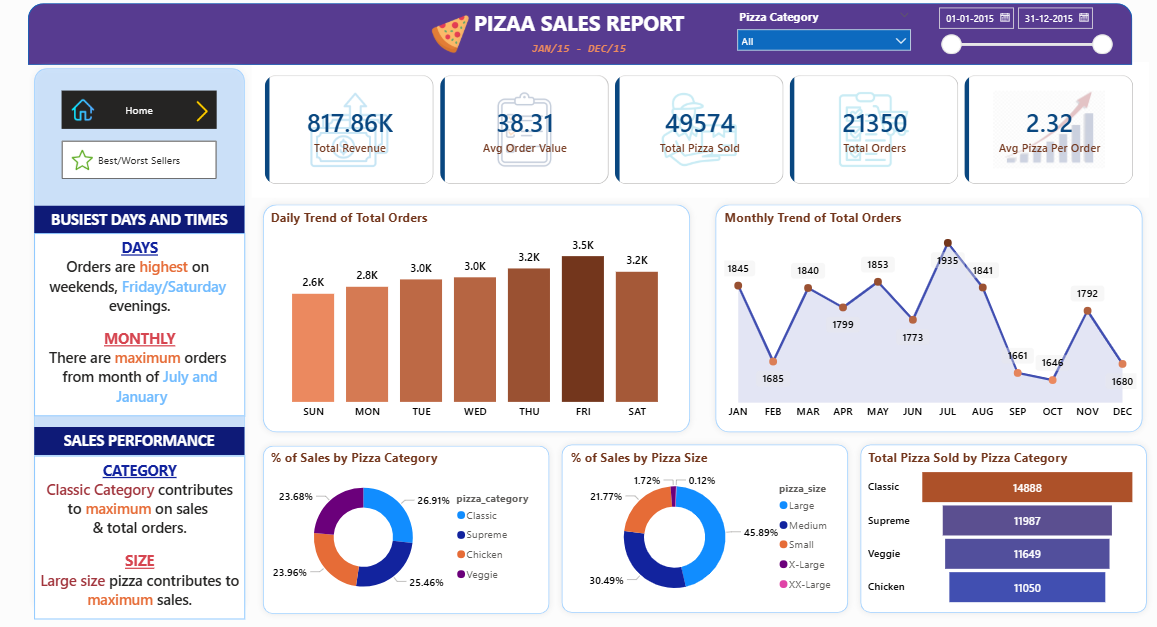

This screenshot's page, from the dashboard's own definition file:
{"tool":"powerbi","page":{"name":"Home","canvas":[1500,820],"ordinal":0},"visuals":[{"type":"cardVisual","fields":{"Data":["pizza_sales.Total Revenue","pizza_sales.Avg Order Value","pizza_sales.Total Pizza Sold","pizza_sales.Total Orders","pizza_sales.Avg Pizza Per Order"]},"box":[325.9,90.5,1154.5,174.1],"z":0},{"type":"shape","box":[39,13.9,1420.5,79.4],"z":1000},{"type":"textbox","box":[582.1,16.7,338.4,51.5],"z":2000},{"type":"textbox","box":[682.4,57.1,139.3,33.4],"z":3000},{"type":"image","box":[544.5,29.2,73.8,50.1],"z":4000},{"type":"shape","box":[332.8,264.6,565.4,309.2],"z":5000},{"type":"columnChart","title":"Daily Trend of Total Orders","fields":{"Category":["pizza_sales.Order Day"],"Y":["pizza_sales.Total Orders"]},"box":[345.4,278.5,537.6,281.3],"z":6000},{"type":"shape","box":[915,264.6,565.4,309.2],"z":7000},{"type":"shape","box":[39,90.5,286.9,715.8],"z":8000},{"type":"areaChart","title":"Monthly Trend of Total Orders","fields":{"Category":["pizza_sales.Order Month"],"Y":["pizza_sales.Total Orders"]},"box":[928.9,278.5,540.4,281.3],"z":9000},{"type":"shape","box":[332.8,575.2,384.4,232.6],"z":10000},{"type":"shape","box":[717.2,573.8,384.4,232.6],"z":11000},{"type":"shape","box":[1101.6,573.8,384.4,232.6],"z":12000},{"type":"donutChart","title":"% of Sales by Pizza Category","fields":{"Category":["pizza_sales.pizza_category"],"Y":["pizza_sales.Total Revenue"]},"box":[345.4,587.7,357.9,207.5],"z":13000},{"type":"donutChart","title":"% of Sales by Pizza Size","fields":{"Y":["pizza_sales.Total Revenue"],"Category":["pizza_sales.pizza_size"]},"box":[731.2,587.7,357.9,207.5],"z":14000},{"type":"funnel","title":"Total Pizza Sold by Pizza Category","fields":{"Category":["pizza_sales.pizza_category"],"Y":["pizza_sales.Total Pizza Sold"]},"box":[1114.1,587.7,355.1,207.5],"z":15000},{"type":"textbox","box":[46,274.4,270.2,36.2],"z":16000},{"type":"textbox","box":[46,310.6,271.6,235.4],"z":17000},{"type":"textbox","box":[46,596.1,271.6,210.3],"z":18000},{"type":"textbox","box":[47.4,559.9,270.2,36.2],"z":19000},{"type":"slicer","fields":{"Values":["pizza_sales.pizza_category"]},"box":[941.4,16.7,243.7,68.2],"z":20000},{"type":"slicer","fields":{"Values":["pizza_sales.order_date"]},"box":[1197.7,9.7,243.7,83.6],"z":21000},{"type":"pageNavigator","box":[82,127,199.4,49.9],"z":22000},{"type":"pageNavigator","box":[82,191.4,199.4,49.9],"z":23000},{"type":"image","box":[221.9,139.9,82,27.3],"z":24000},{"type":"image","box":[94.9,98.1,28.9,107.7],"z":25000},{"type":"image","box":[94.9,162.4,27.3,107.7],"z":26000}]}

Visuals, with their boxes in screenshot pixels (x1, y1, x2, y2), scaled from the page's 1500x820 canvas onto the 1157x627 screenshot:
cardVisual - pizza_sales.Total Revenue x pizza_sales.Avg Order Value: (251,69,1142,202)
shape: (30,11,1126,71)
textbox: (449,13,710,52)
textbox: (526,44,634,69)
image: (420,22,477,61)
shape: (257,202,693,439)
"Daily Trend of Total Orders" columnChart: (266,213,681,428)
shape: (706,202,1142,439)
shape: (30,69,251,617)
"Monthly Trend of Total Orders" areaChart: (716,213,1133,428)
shape: (257,440,553,618)
shape: (553,439,850,617)
shape: (850,439,1146,617)
"% of Sales by Pizza Category" donutChart: (266,449,542,608)
"% of Sales by Pizza Size" donutChart: (564,449,840,608)
"Total Pizza Sold by Pizza Category" funnel: (859,449,1133,608)
textbox: (35,210,244,237)
textbox: (35,237,245,417)
textbox: (35,456,245,617)
textbox: (37,428,245,456)
slicer - pizza_sales.pizza_category: (726,13,914,65)
slicer - pizza_sales.order_date: (924,7,1112,71)
pageNavigator: (63,97,217,135)
pageNavigator: (63,146,217,185)
image: (171,107,234,128)
image: (73,75,95,157)
image: (73,124,94,207)
